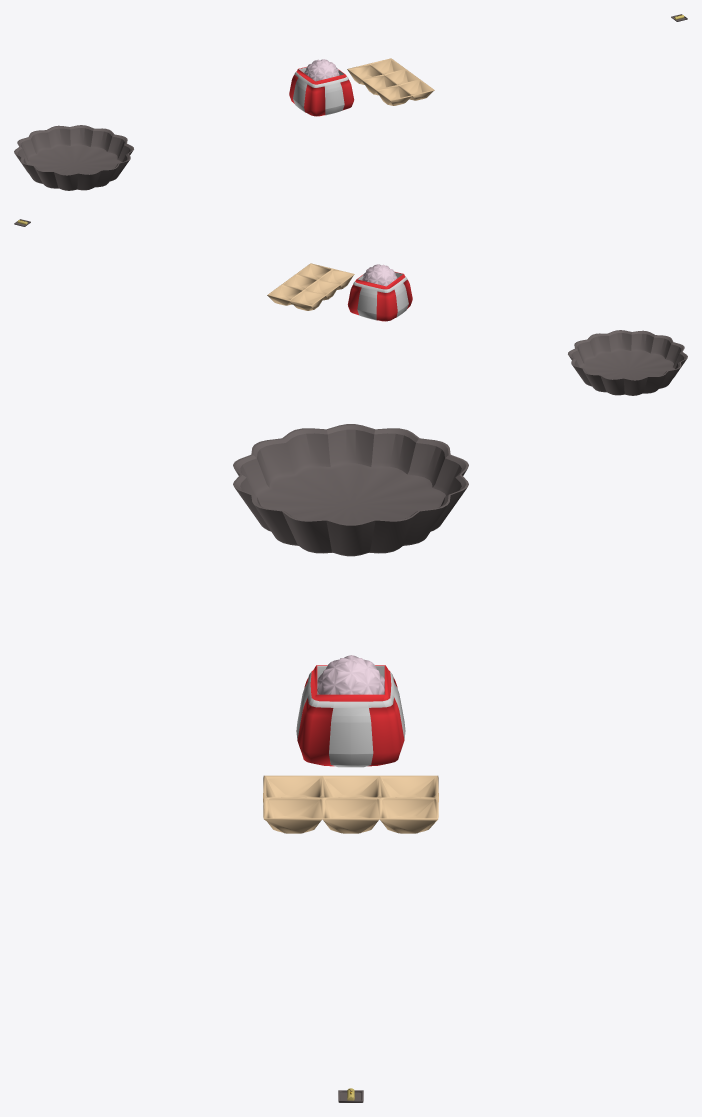
The model's file is PlatBuche.fbx.
3 views of the same model, one above another, from view 1: azimuth 30°, elevation 25°; view 2: azimuth 150°, elevation 25°; view 3: azimuth 270°, elevation 25° (orthographic). The views are drawn at different scales.
Parts seen in each view (by area): view 1: Cylinder, Icosphere, Plane; view 2: Cylinder, Icosphere, Plane; view 3: Cylinder, Icosphere, Plane.
Boxes of the visible parts, left/top/right/bottom form: Cylinder: left=14, top=125, right=133, bottom=190; Icosphere: left=289, top=59, right=354, bottom=116; Plane: left=347, top=58, right=434, bottom=105; Cylinder: left=568, top=330, right=687, bottom=395; Icosphere: left=347, top=264, right=412, bottom=321; Plane: left=267, top=263, right=354, bottom=310; Cylinder: left=233, top=424, right=468, bottom=556; Icosphere: left=296, top=655, right=405, bottom=767; Plane: left=263, top=775, right=438, bottom=833.
Size of the model in its own units: 3040 by 225 by 469.
